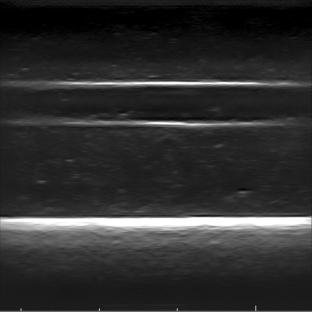vessel: (7, 79, 301, 128)
